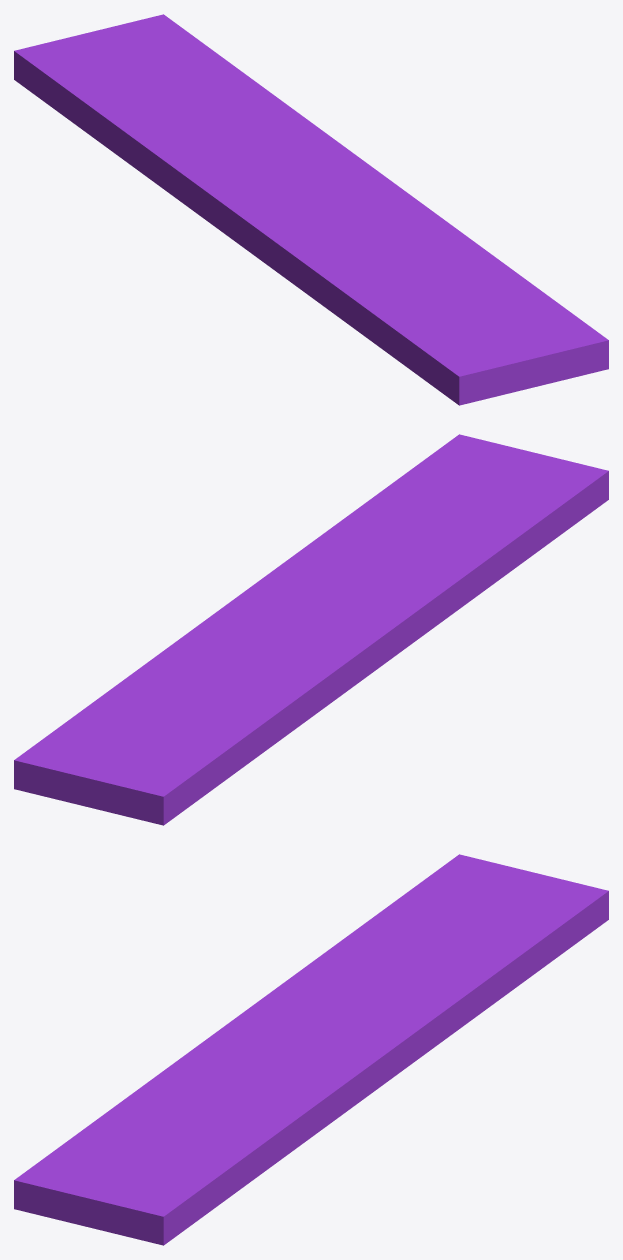
The model's file is StairsStep_75_chunks.fbx.
3 renders of one model, top to bottom at view 1: azimuth 30°, elevation 25°; view 2: azimuth 150°, elevation 25°; view 3: azimuth 330°, elevation 25°, orthographic.
Parts seen in each view (by area): view 1: StairsStep_75_0, StairsStep_75_2, StairsStep_75_1, StairsStep_75_3; view 2: StairsStep_75_0, StairsStep_75_2, StairsStep_75_1, StairsStep_75_3; view 3: StairsStep_75_0, StairsStep_75_2, StairsStep_75_1, StairsStep_75_3.
Part boxes in pixels (left/top/right/bottom): StairsStep_75_0: left=278, top=185, right=608, bottom=405; StairsStep_75_2: left=14, top=14, right=397, bottom=191; StairsStep_75_1: left=75, top=100, right=295, bottom=274; StairsStep_75_3: left=262, top=176, right=339, bottom=216; StairsStep_75_0: left=248, top=434, right=608, bottom=629; StairsStep_75_2: left=14, top=589, right=295, bottom=825; StairsStep_75_1: left=225, top=603, right=430, bottom=780; StairsStep_75_3: left=290, top=606, right=361, bottom=642; StairsStep_75_0: left=14, top=1040, right=374, bottom=1245; StairsStep_75_2: left=327, top=854, right=608, bottom=1090; StairsStep_75_1: left=196, top=904, right=390, bottom=1047; StairsStep_75_3: left=261, top=1008, right=332, bottom=1044.
Size of the model in its own units: 157 by 28.98 by 810.
